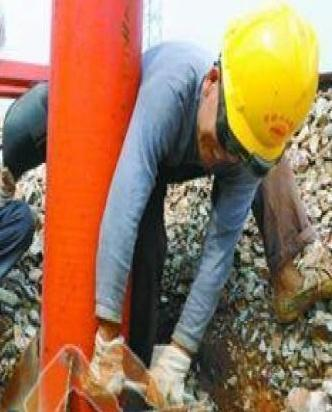boots: (1, 1, 1, 1)
gloves: (87, 323, 128, 398), (0, 240, 22, 302)
hard-hat: (220, 0, 320, 166)
ppe-suit: (0, 50, 83, 339)
